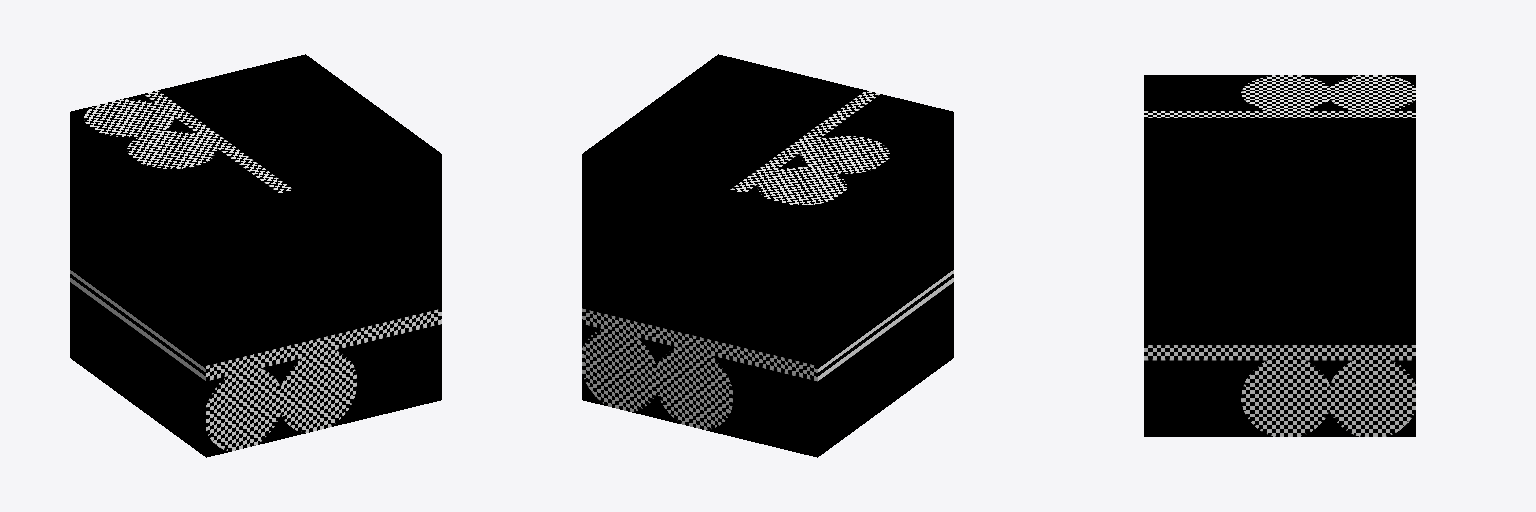
The picture shows the model from 3 angles: view 1: azimuth 30°, elevation 25°; view 2: azimuth 150°, elevation 25°; view 3: azimuth 270°, elevation 25°; orthographic projection.
Visible parts, largest first — view 1: Cube; view 2: Cube; view 3: Cube.
Boxes of the visible parts, x1=… form: Cube: x1=70, y1=54, x2=441, y2=457; Cube: x1=582, y1=54, x2=953, y2=457; Cube: x1=1144, y1=75, x2=1415, y2=436.
Bounding box in the file's own units: 2 × 2 × 2.
1 materials, 1 textured.